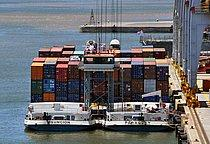Ship: (100, 43, 182, 132), (22, 39, 100, 131)
